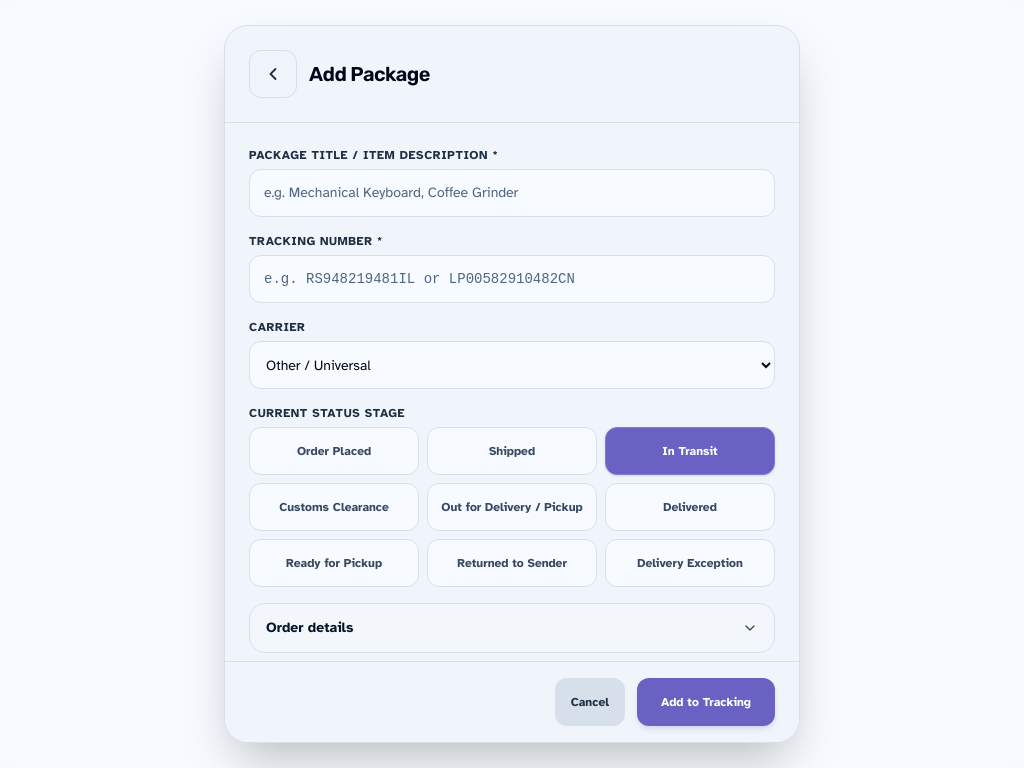
Test: AddEditPackageModal (rendered) › auto-detects the carrier as the tracking number is typed
Type "RS948219481IL" into the field with placeholder "e.g. RS948219481IL or LP00582910482CN" at (512, 279), box [249,255,775,303]
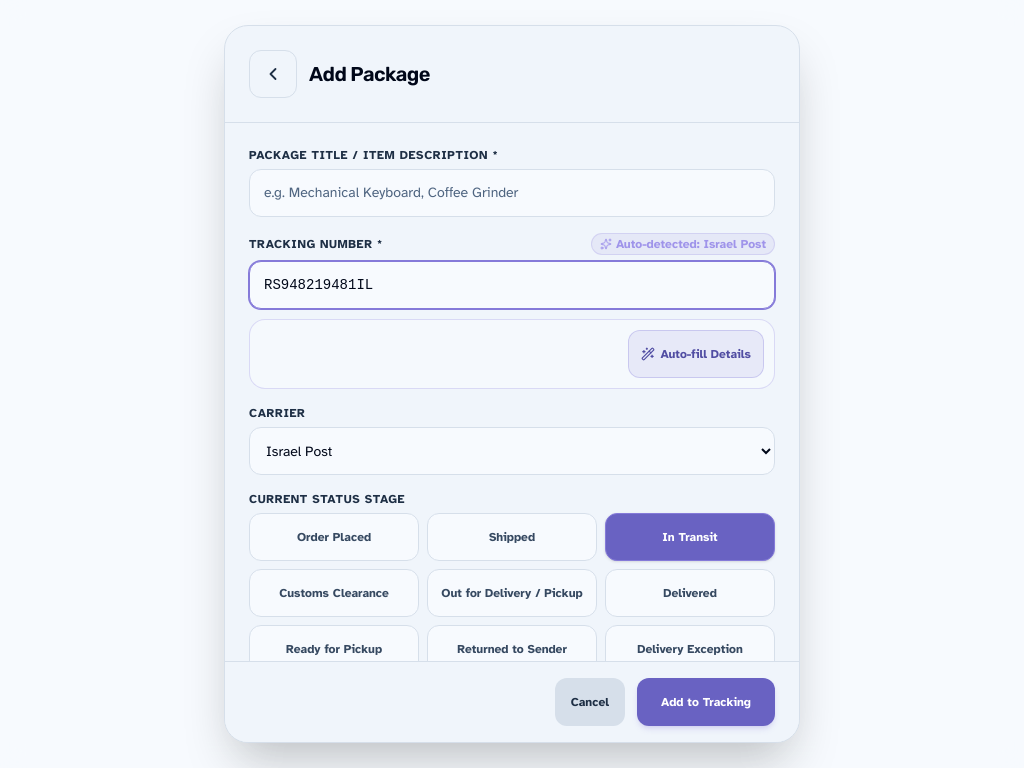
Result: the text "Auto-detected: Israel Post" is shown at [616,236,766,252]
Result: the text "Israel Post" is shown at [703,237,766,251]
